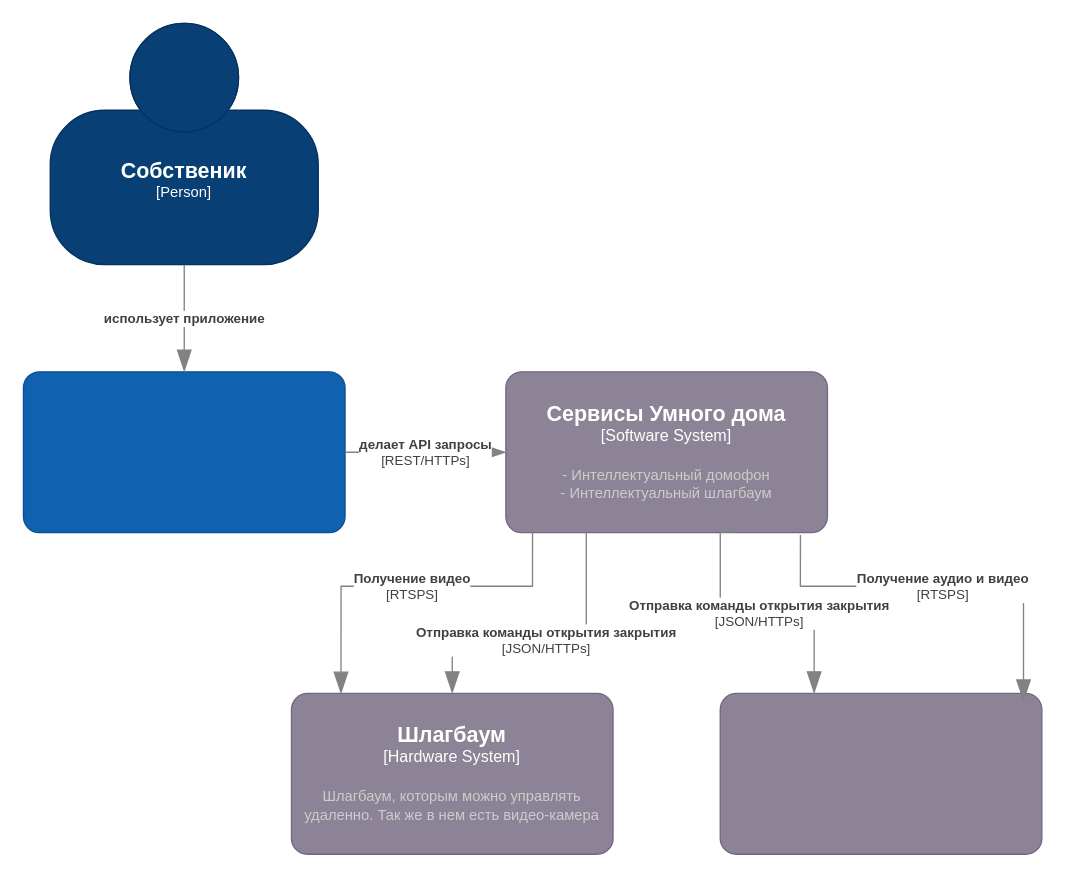
Image size: 1069x878. Some labels were removed from this diagram. The shapes that lost their labels are listed below. From the top down, each one's centre as x and y in pixels, then its label:
At (x=183, y=452): "Группа сервисов ЖКУ [Software System]".
At (x=880, y=773): "Домофон [Hardware System] Аудио/виодео- домофон.".
